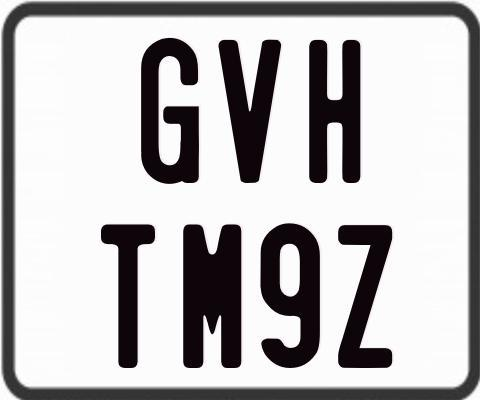9: (260, 220, 323, 366)
G: (140, 36, 198, 186)
H: (309, 38, 366, 187)
M: (180, 224, 241, 368)
T: (99, 222, 155, 369)
V: (216, 39, 280, 188)
Z: (337, 223, 394, 367)
